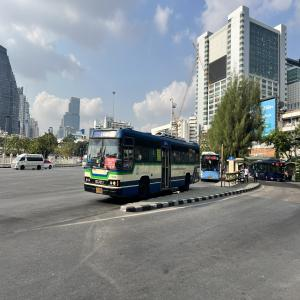BMTA-bus: (83, 128, 200, 202), (201, 151, 220, 185)
Bus Line Number: (100, 130, 110, 138), (213, 156, 217, 160)
Bus Side Number: (110, 175, 117, 179), (212, 176, 216, 178)
Destination Sign: (104, 157, 116, 171), (212, 167, 218, 171)
TSB-Bus: (250, 158, 291, 183)
